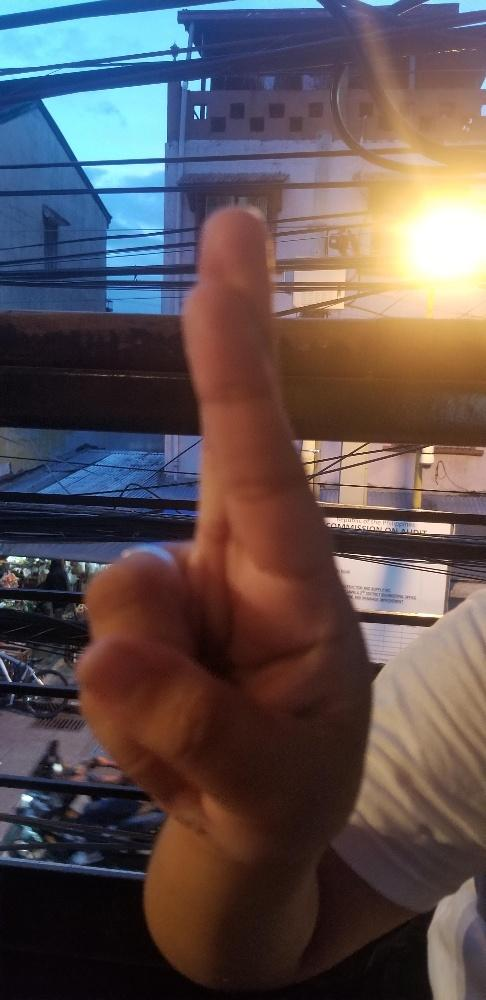r: (71, 198, 374, 852)
